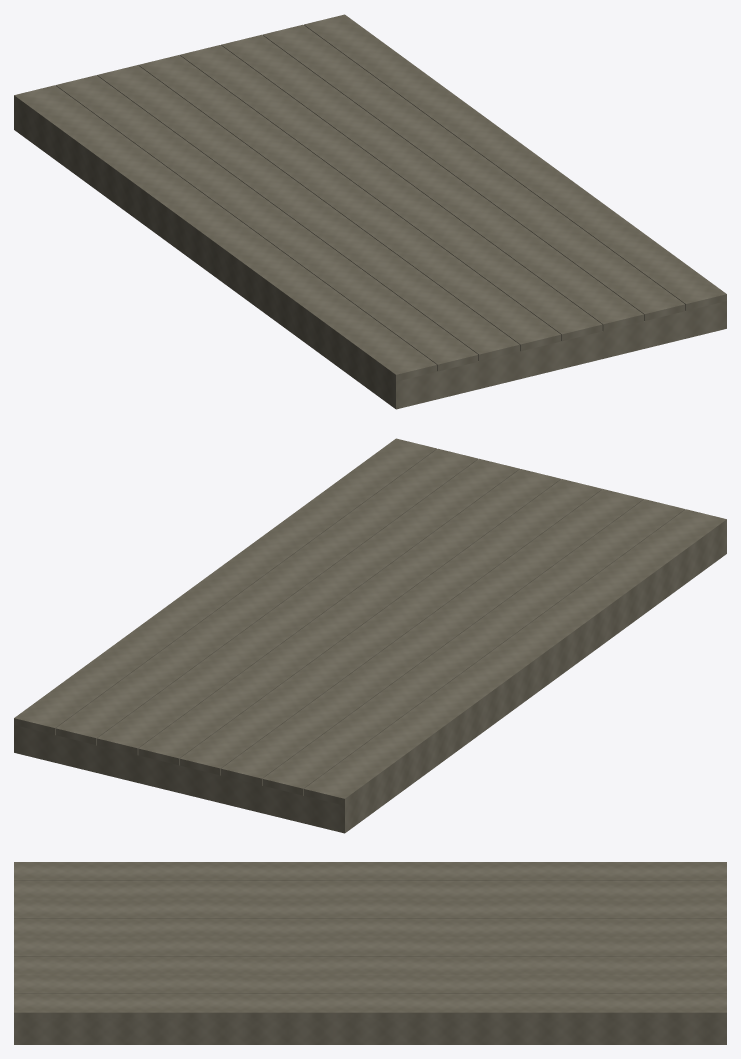
Rendered from MRP_Floor_1x2m.fbx.
The picture shows the model from 3 angles, top to bottom: view 1: azimuth 30°, elevation 25°; view 2: azimuth 150°, elevation 25°; view 3: azimuth 270°, elevation 25°; orthographic projection. The views are drawn at different scales.
Visible parts, largest first — view 1: Body; view 2: Body; view 3: Body.
Part boxes in pixels (x1,y1,x2,y2): Body: (14,14,726,409); Body: (14,438,726,833); Body: (14,862,726,1044).
Size of the model in its own units: 1 by 0.1 by 2.
